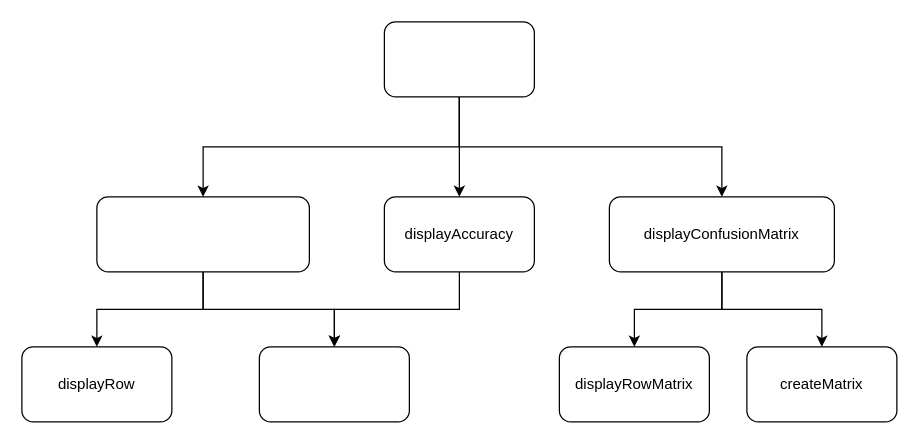
The diagram is 919 pixels wide and 444 high, and some of its shapes have lost their labels. The centre of each missing label's shape, as x and y in pixels:
"countResult" goes at [333,384].
"dispalyResultByClass" goes at [202,234].
"Programme principal" goes at [458,59].
